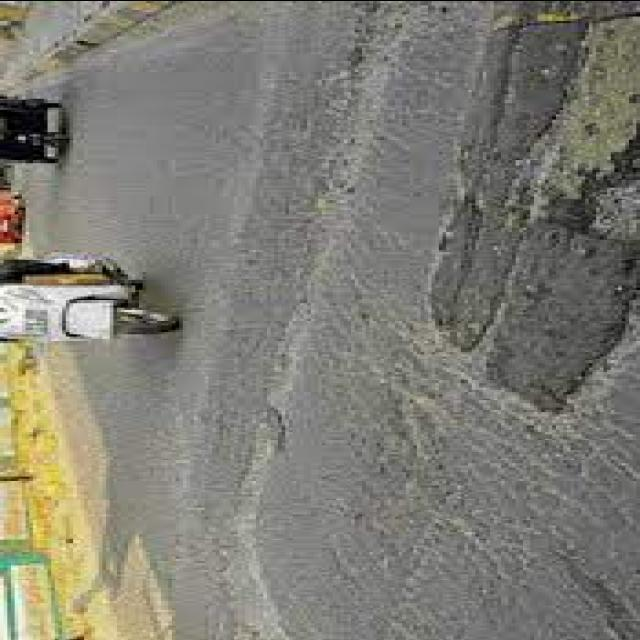speedbreaker: (139, 0, 369, 589)
